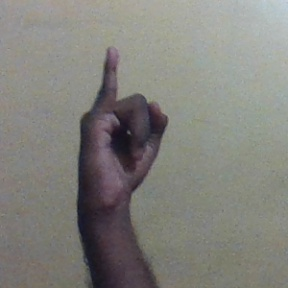I: (76, 45, 170, 208)
